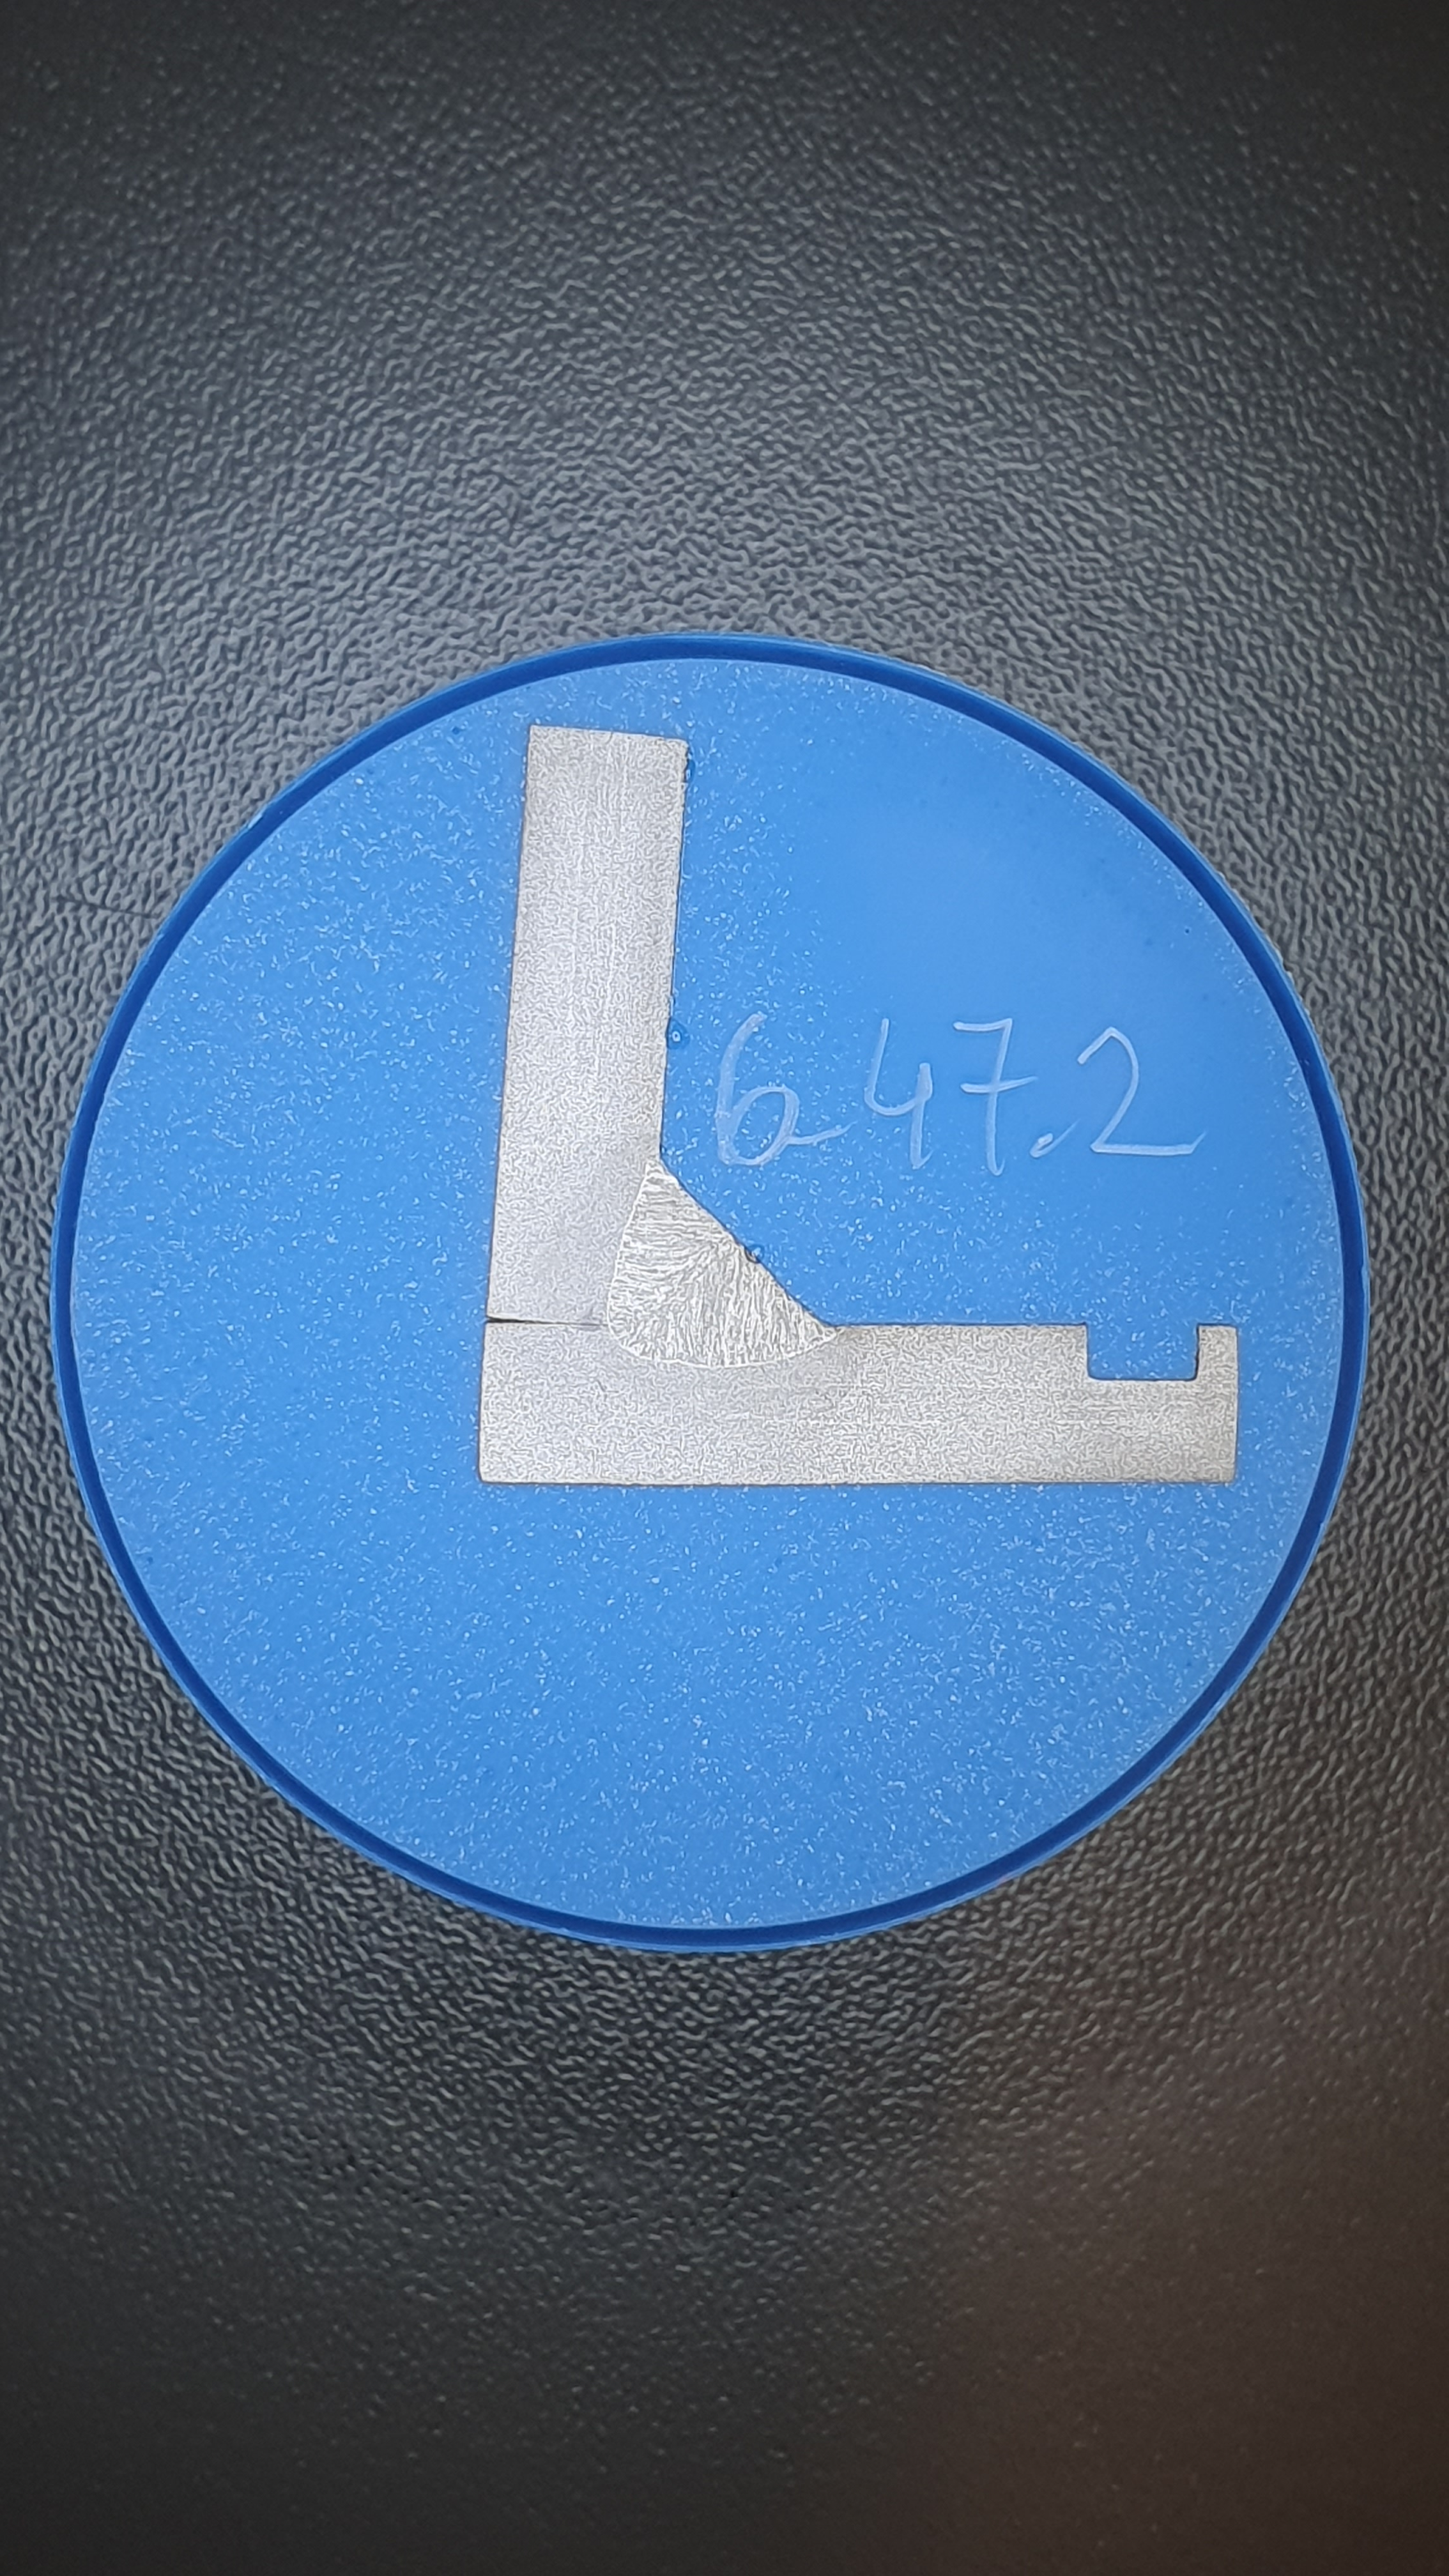Fusion: (607, 1152, 846, 1366)
Hintergrund: (74, 660, 1343, 1928)
Metall: (478, 724, 1238, 1486)
Nebenbereich: (527, 1127, 869, 1424)
